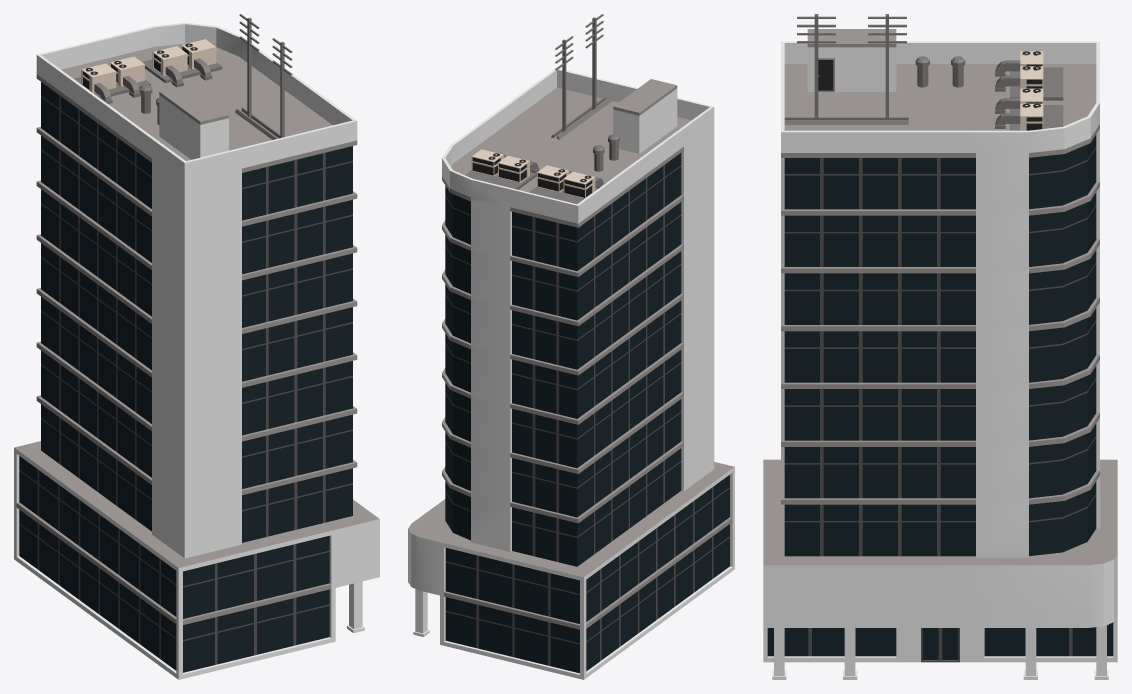
Rendered from building_6.fbx.
3 views of the same model, side by side, from view 1: azimuth 30°, elevation 25°; view 2: azimuth 150°, elevation 25°; view 3: azimuth 270°, elevation 25° (orthographic). The views are drawn at different scales.
Visible parts, largest first — view 1: building_6; view 2: building_6; view 3: building_6.
Part boxes in pixels (x1=…): building_6: x1=14, y1=14, x2=379, y2=679; building_6: x1=408, y1=14, x2=734, y2=679; building_6: x1=763, y1=14, x2=1117, y2=679.
Size of the model in its own units: 1.41 by 3.94 by 2.
